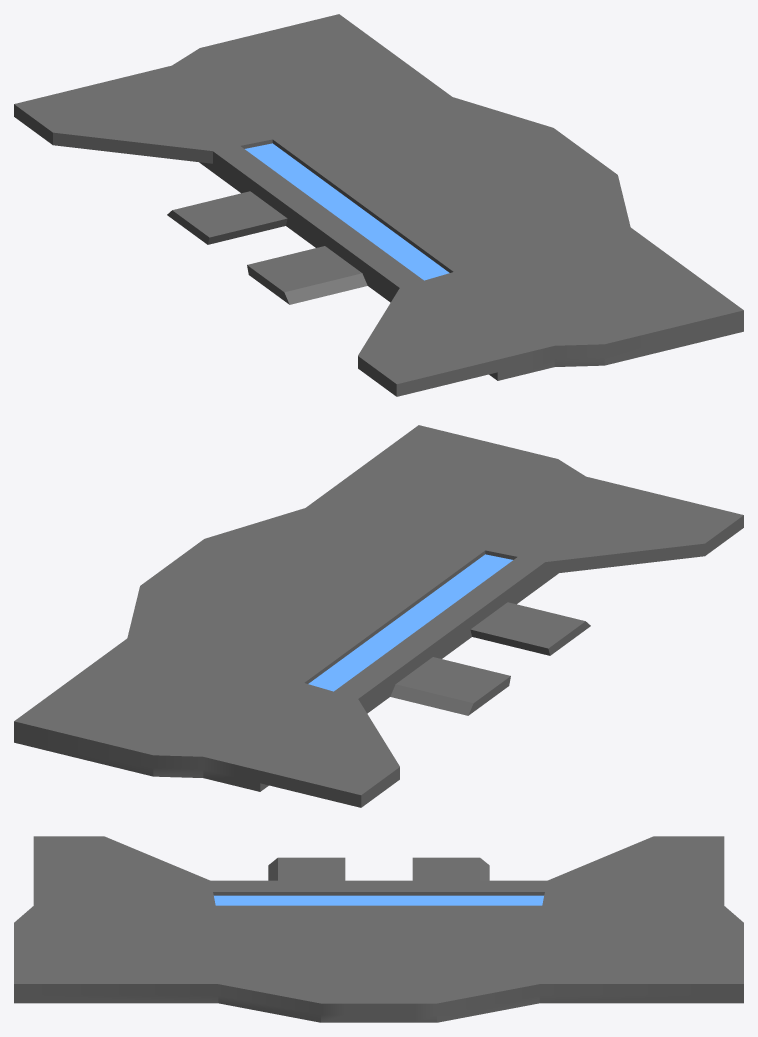
The model's file is bridgeEmitter_blue.fbx.
3 renders of one model, top to bottom at view 1: azimuth 30°, elevation 25°; view 2: azimuth 150°, elevation 25°; view 3: azimuth 270°, elevation 25°, orthographic. The views are drawn at different scales.
Visible parts, largest first — view 1: bridgeEmitter_blue; view 2: bridgeEmitter_blue; view 3: bridgeEmitter_blue.
Part boxes in pixels (bbox=[...]): bridgeEmitter_blue: bbox=[14, 14, 743, 396]; bridgeEmitter_blue: bbox=[14, 425, 743, 807]; bridgeEmitter_blue: bbox=[14, 836, 743, 1022].
Size of the model in its own units: 4.04 by 0.2166 by 7.45.
